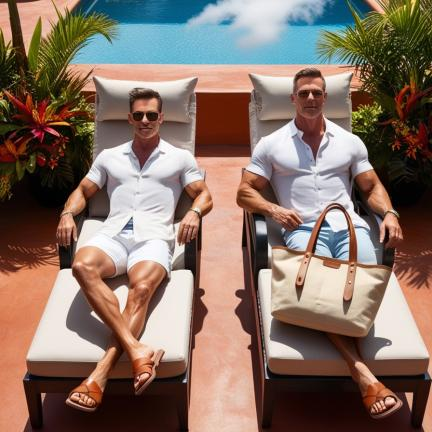guest on chair: (237, 67, 430, 427), (24, 77, 213, 430)
